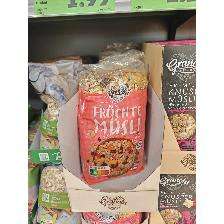Cerealien: (77, 50, 151, 184)
